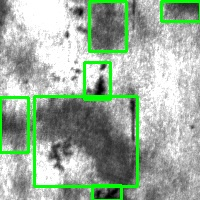inclusion: (84, 62, 110, 99), (127, 93, 137, 144), (92, 185, 121, 200)
patches: (34, 96, 137, 186), (89, 1, 126, 51), (1, 97, 28, 152), (161, 1, 200, 21)
